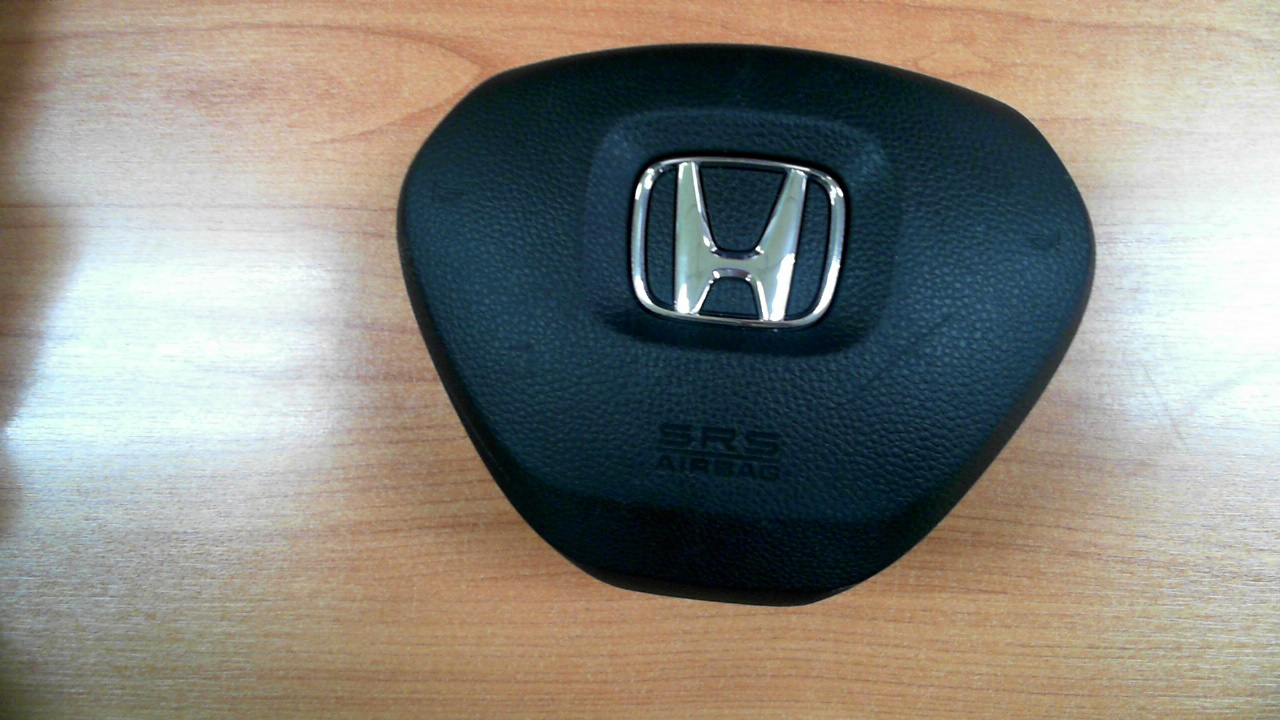Airbag: (396, 42, 1098, 607)
Honda: (630, 156, 846, 328)
